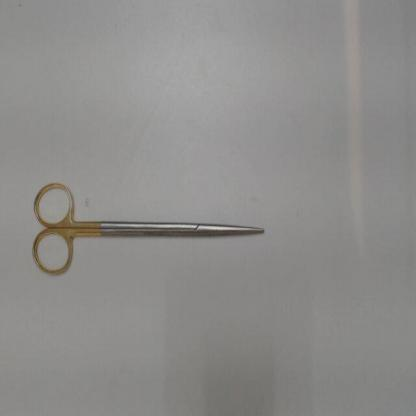7 Metzenbaum Scissors: (31, 179, 264, 279)
